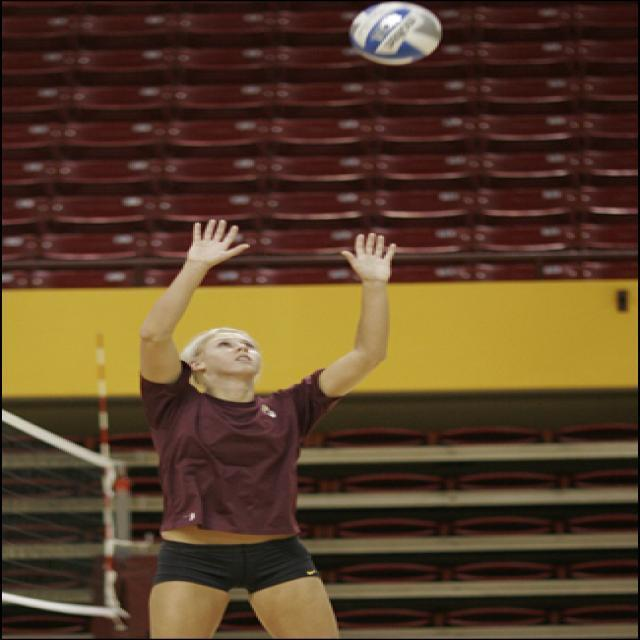volleyball: (348, 1, 443, 66)
